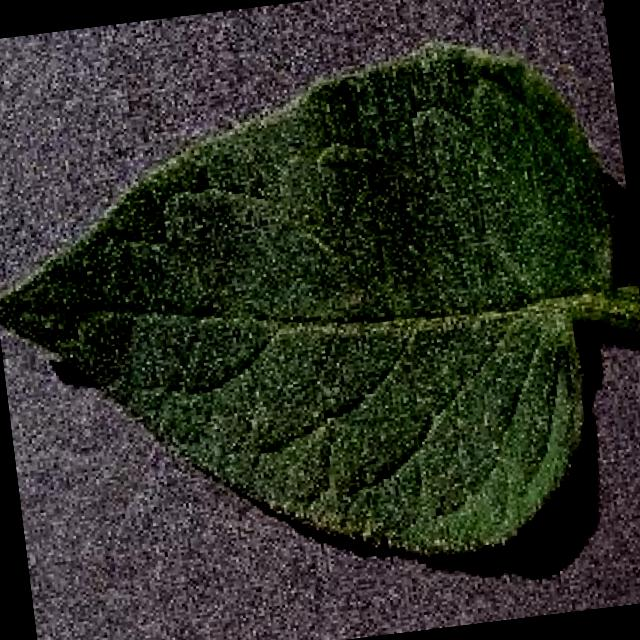healthy: (0, 42, 640, 553)
